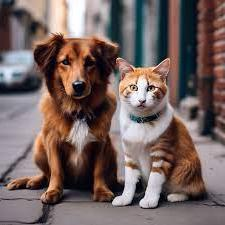animals: (11, 32, 124, 208), (111, 57, 206, 212)
